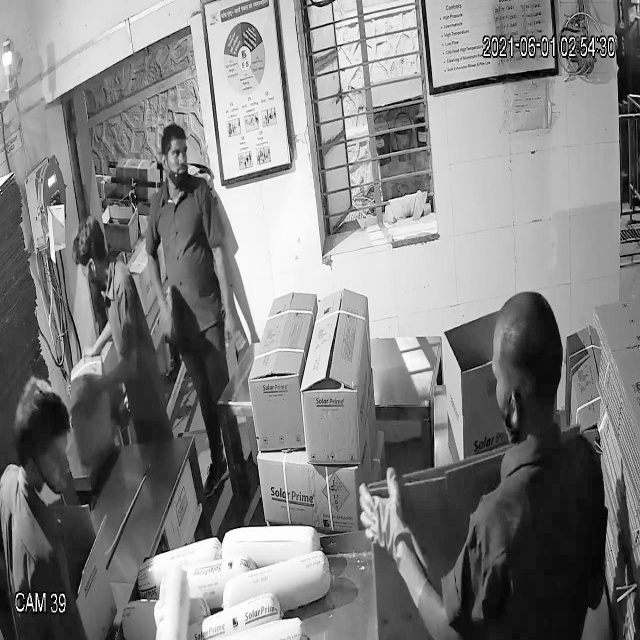Sin_gafas: (158, 140, 192, 172)
